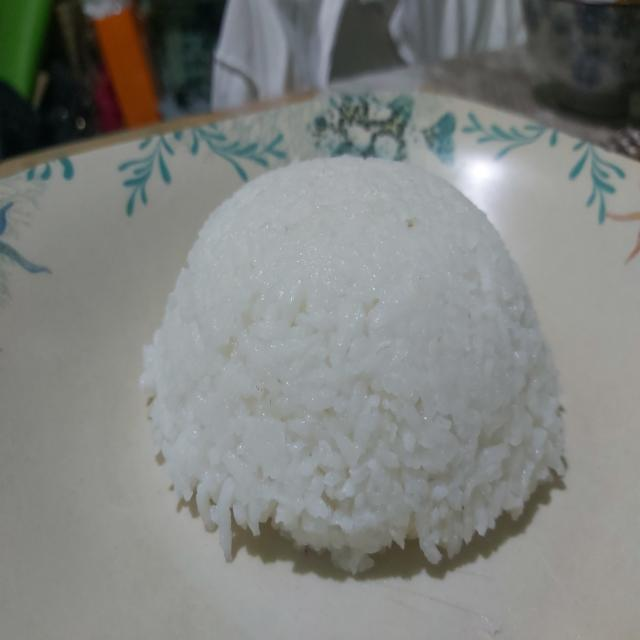Chicken -Chicken Inasal-: (147, 151, 566, 557)
